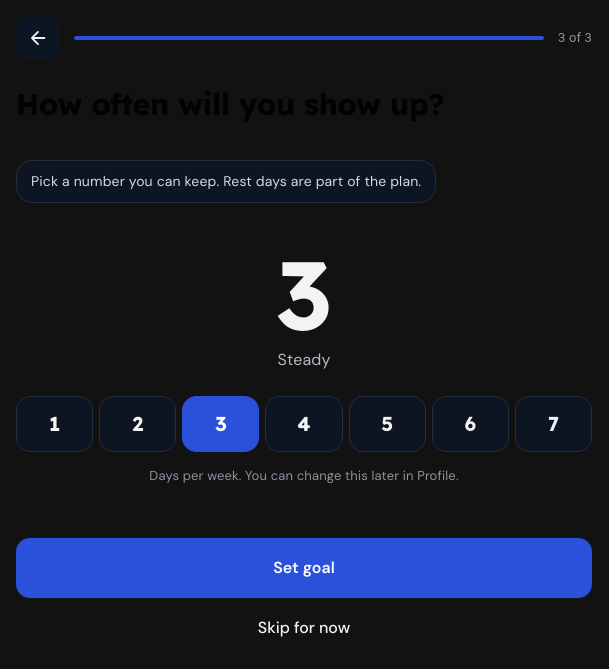
Test: the Skip for now button › stays off after the goal is saved, while the screen waits to move on (a save and a skip must never both happen)
The width and height of the screenshot is (609, 669).
Click the button "Set goal". click: {"x": 304, "y": 568}
box: [16, 538, 592, 598]
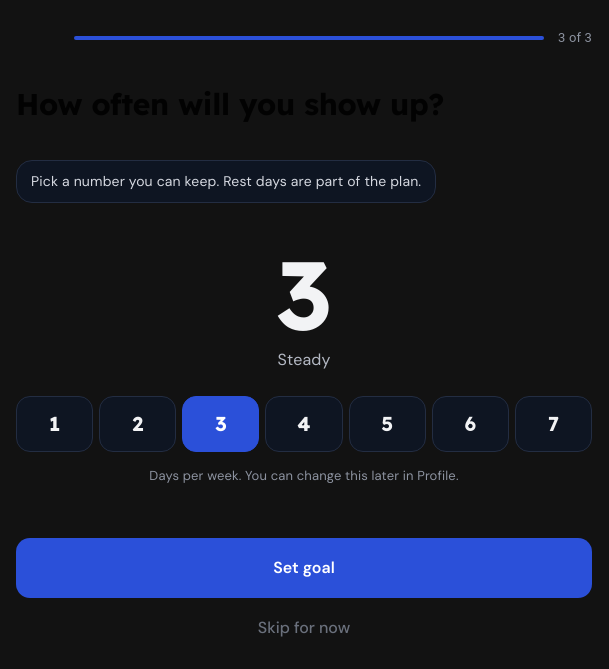
Expected: the button "Skip for now" is disabled, [16, 604, 592, 652]
